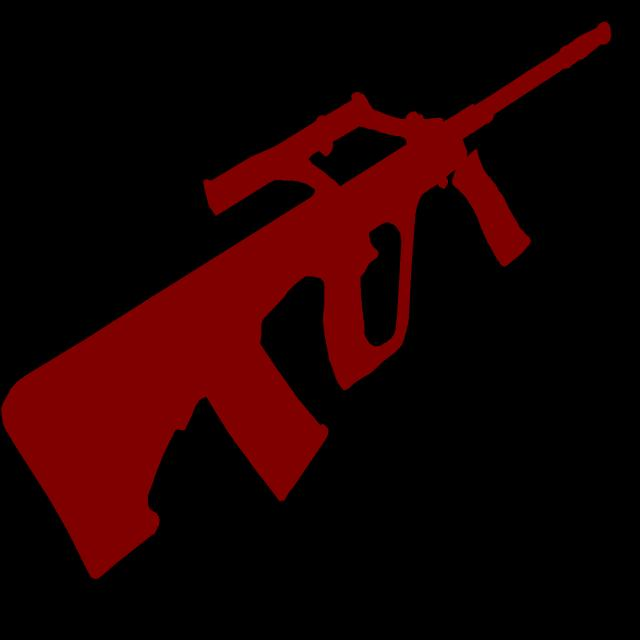firearm: (0, 18, 613, 581)
